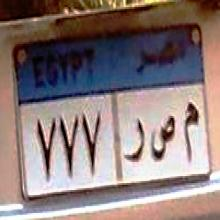7: (82, 107, 103, 171), (36, 115, 56, 175), (59, 110, 78, 173)
meem: (181, 95, 201, 165)
raa: (124, 110, 146, 167)
saad: (148, 104, 178, 166)
